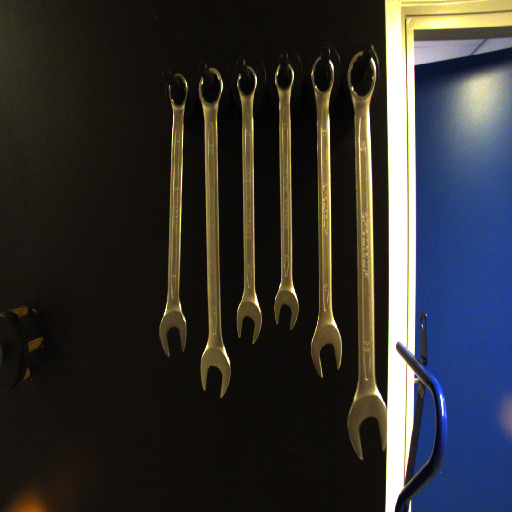bottom: (345, 393, 391, 461), (309, 325, 347, 379), (197, 347, 233, 399), (157, 311, 190, 359), (234, 300, 265, 345), (270, 288, 301, 332)
top: (345, 51, 378, 100), (306, 55, 338, 95), (197, 67, 225, 108), (162, 72, 193, 108), (234, 65, 261, 99), (272, 62, 297, 94)
